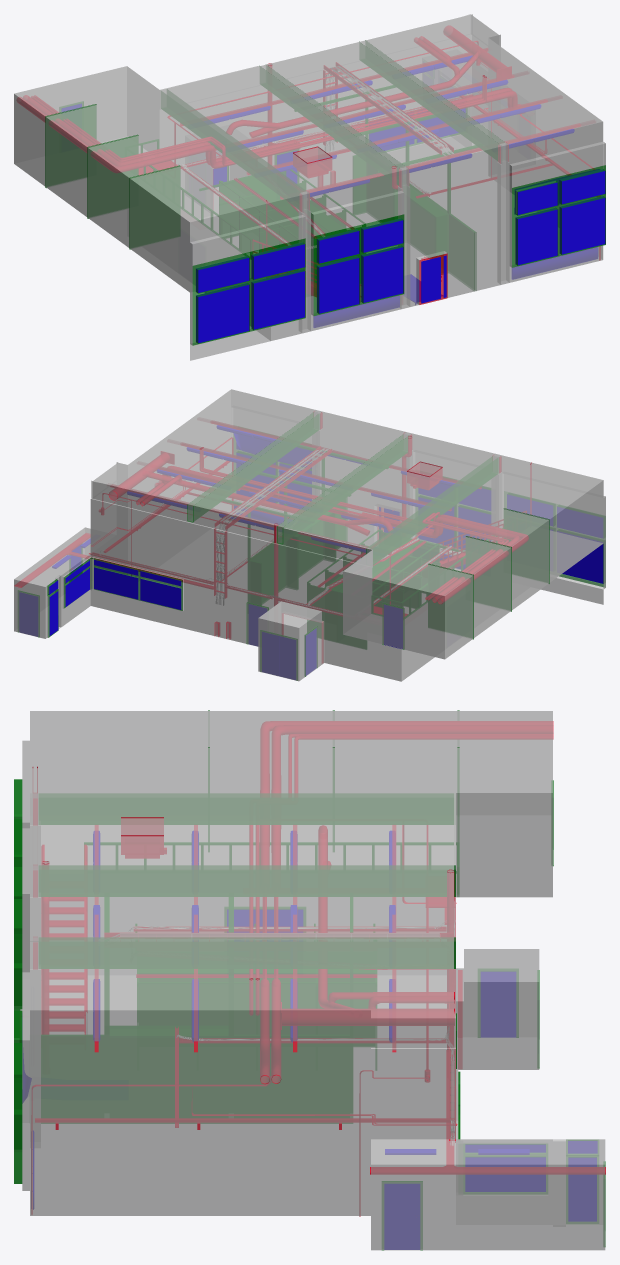
The model's file is elec_classroom.fbx.
3 renders of one model, top to bottom at view 1: azimuth 30°, elevation 25°; view 2: azimuth 150°, elevation 25°; view 3: azimuth 270°, elevation 25°, orthographic. The views are drawn at different scales.
Visible parts, largest first — view 1: mesh_room_v2, detail_wires, mesh_room_lit; view 2: mesh_room_v2, detail_wires, mesh_room_lit; view 3: mesh_room_v2, detail_wires.
Part boxes in pixels (bbox=[...]): mesh_room_v2: bbox=[14, 14, 605, 360]; detail_wires: bbox=[177, 66, 460, 248]; mesh_room_lit: bbox=[214, 83, 573, 196]; mesh_room_v2: bbox=[14, 389, 605, 681]; detail_wires: bbox=[100, 449, 451, 614]; mesh_room_lit: bbox=[157, 428, 451, 552]; mesh_room_v2: bbox=[14, 710, 605, 1250]; detail_wires: bbox=[112, 921, 454, 1144].
Size of what is drawn, in the model's own units: 2939 by 852 by 2201.
